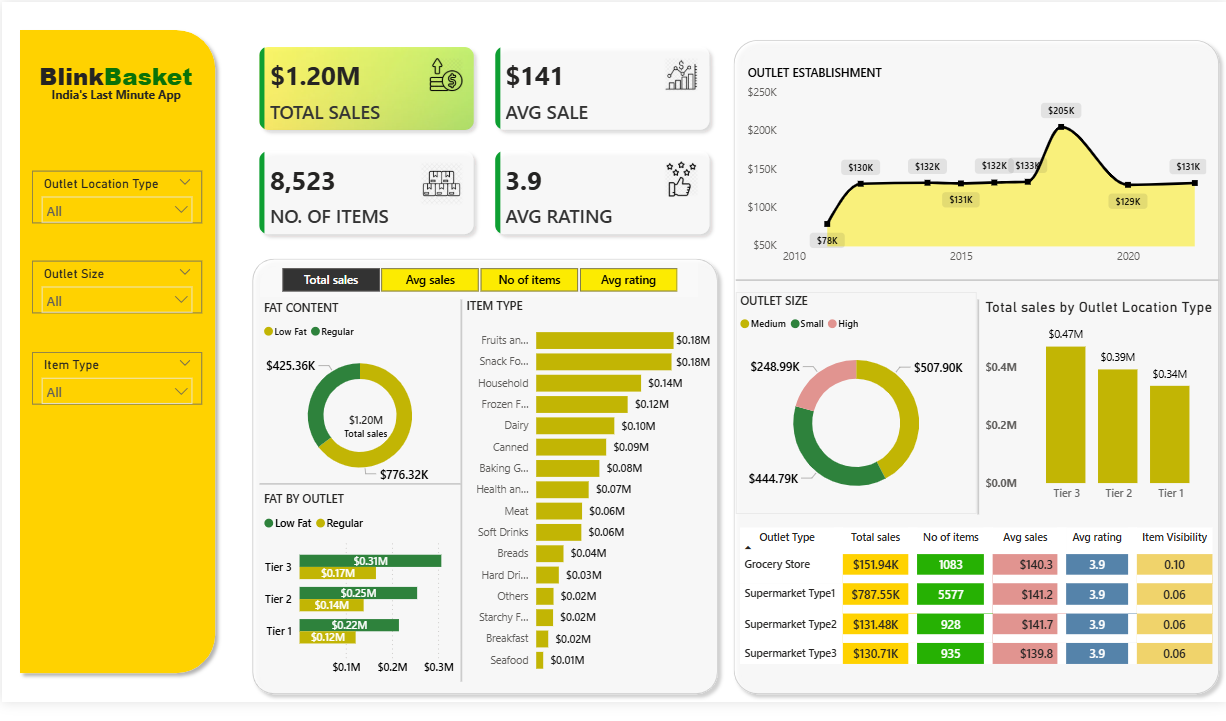

This screenshot's page, from the dashboard's own definition file:
{"tool":"powerbi","page":{"name":"Page 1","canvas":[1400,800],"ordinal":0},"visuals":[{"type":"shape","box":[10.7,22.8,241.3,753.4],"z":0},{"type":"textbox","box":[17.5,60,226.2,62.5],"z":1000},{"type":"textbox","box":[17.4,91.2,226.5,36.2],"z":2000},{"type":"cardVisual","fields":{"Data":["BlinkIT Grocery Data.Total sales","BlinkIT Grocery Data.Avg sales","BlinkIT Grocery Data.No of items","BlinkIT Grocery Data.Avg rating"]},"box":[277.5,34.9,549.6,249.3],"z":3000},{"type":"shape","box":[277.1,284.3,550,515.7],"z":4000},{"type":"donutChart","title":"FAT CONTENT","fields":{"Y":["BlinkIT Grocery Data.Total sales"],"Category":["BlinkIT Grocery Data.Item Fat Content"]},"box":[294.3,340,230,220],"z":5000},{"type":"slicer","fields":{"Values":["Parameters.Parameters"]},"box":[294.3,297.1,501.4,40],"z":6000},{"type":"cardVisual","fields":{"Data":["BlinkIT Grocery Data.Total sales"]},"box":[345.7,452.9,140,57.1],"z":7000},{"type":"clusteredBarChart","title":"FAT BY OUTLET","fields":{"Y":["BlinkIT Grocery Data.Total sales"],"Category":["BlinkIT Grocery Data.Outlet Location Type"],"Series":["BlinkIT Grocery Data.Item Fat Content"]},"box":[294.3,558.6,230,220],"z":8000},{"type":"shape","box":[294.3,542.9,230,15.7],"z":9000},{"type":"shape","box":[505.7,340,38.6,437.1],"z":10000},{"type":"barChart","title":"ITEM TYPE","fields":{"Y":["BlinkIT Grocery Data.Total sales"],"Category":["BlinkIT Grocery Data.Item Type"]},"box":[525.7,337.1,288.6,440],"z":11000},{"type":"shape","box":[827.1,34.3,572.9,765.7],"z":12000},{"type":"lineChart","title":"OUTLET ESTABLISHMENT","fields":{"Category":["BlinkIT Grocery Data.Outlet Establishment Year"],"Y":["BlinkIT Grocery Data.Total sales"]},"box":[847.1,71.4,534.3,237.1],"z":13000},{"type":"donutChart","title":"OUTLET SIZE","fields":{"Y":["BlinkIT Grocery Data.Total sales"],"Category":["BlinkIT Grocery Data.Outlet Size"]},"box":[838.6,331.4,275.7,254.3],"z":14000},{"type":"shape","box":[838.6,308.6,552.9,18.6],"z":15000},{"type":"lineClusteredColumnComboChart","fields":{"Y":["BlinkIT Grocery Data.Total sales"],"Category":["BlinkIT Grocery Data.Outlet Location Type"]},"box":[1118.6,338.6,270,241.4],"z":16000},{"type":"shape","box":[1101.4,340,28.6,245.7],"z":17000},{"type":"pivotTable","fields":{"Values":["BlinkIT Grocery Data.Total sales","BlinkIT Grocery Data.No of items","BlinkIT Grocery Data.Avg sales","BlinkIT Grocery Data.Avg rating","Avg(BlinkIT Grocery Data.Item Visibility)"],"Rows":["BlinkIT Grocery Data.Outlet Type"]},"box":[838.6,595.7,550,180],"z":17001},{"type":"slicer","fields":{"Values":["BlinkIT Grocery Data.Outlet Location Type"]},"box":[34.3,192.9,194.3,60],"z":17002},{"type":"slicer","fields":{"Values":["BlinkIT Grocery Data.Outlet Size"]},"box":[34.3,295.7,194.3,60],"z":17003},{"type":"slicer","fields":{"Values":["BlinkIT Grocery Data.Item Type"]},"box":[34.3,400,194.3,60],"z":17004}]}

Visuals, with their boxes in screenshot pixels (x1, y1, x2, y2), scaled from the page's 1400x800 canvas onto the 1226x721 screenshot:
shape: <region>9, 21, 221, 700</region>
textbox: <region>15, 54, 213, 110</region>
textbox: <region>15, 82, 214, 115</region>
cardVisual - BlinkIT Grocery Data.Total sales x BlinkIT Grocery Data.Avg sales: <region>243, 31, 724, 256</region>
shape: <region>243, 256, 724, 720</region>
"FAT CONTENT" donutChart: <region>258, 306, 459, 505</region>
slicer - Parameters.Parameters: <region>258, 268, 697, 304</region>
cardVisual - BlinkIT Grocery Data.Total sales: <region>303, 408, 425, 460</region>
"FAT BY OUTLET" clusteredBarChart: <region>258, 503, 459, 702</region>
shape: <region>258, 489, 459, 503</region>
shape: <region>443, 306, 477, 700</region>
"ITEM TYPE" barChart: <region>460, 304, 713, 700</region>
shape: <region>724, 31, 1225, 720</region>
"OUTLET ESTABLISHMENT" lineChart: <region>742, 64, 1210, 278</region>
"OUTLET SIZE" donutChart: <region>734, 299, 976, 528</region>
shape: <region>734, 278, 1219, 295</region>
lineClusteredColumnComboChart - BlinkIT Grocery Data.Total sales x BlinkIT Grocery Data.Outlet Location Type: <region>980, 305, 1216, 523</region>
shape: <region>965, 306, 990, 528</region>
pivotTable - BlinkIT Grocery Data.Total sales x BlinkIT Grocery Data.No of items: <region>734, 537, 1216, 699</region>
slicer - BlinkIT Grocery Data.Outlet Location Type: <region>30, 174, 200, 228</region>
slicer - BlinkIT Grocery Data.Outlet Size: <region>30, 266, 200, 321</region>
slicer - BlinkIT Grocery Data.Item Type: <region>30, 360, 200, 415</region>
